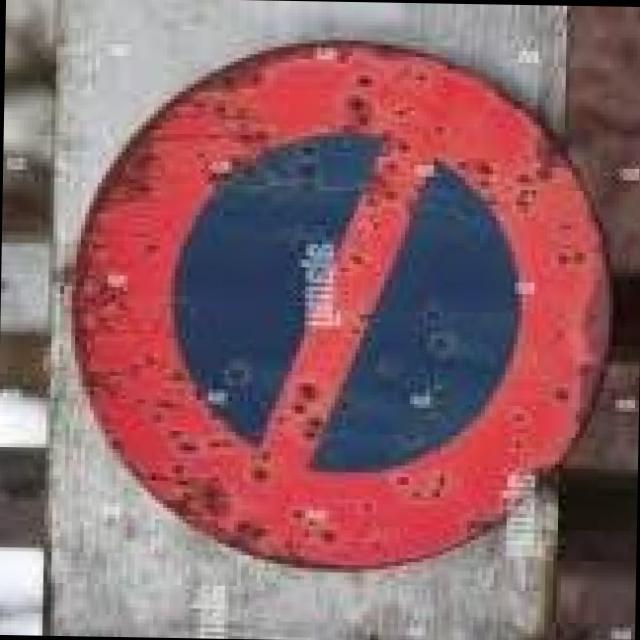obstructed_road_sign: (75, 44, 609, 568)
